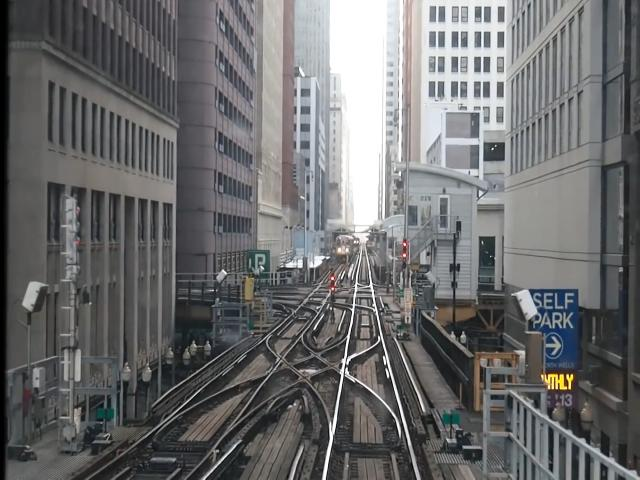signal light: (331, 275, 337, 304), (403, 240, 408, 271)
